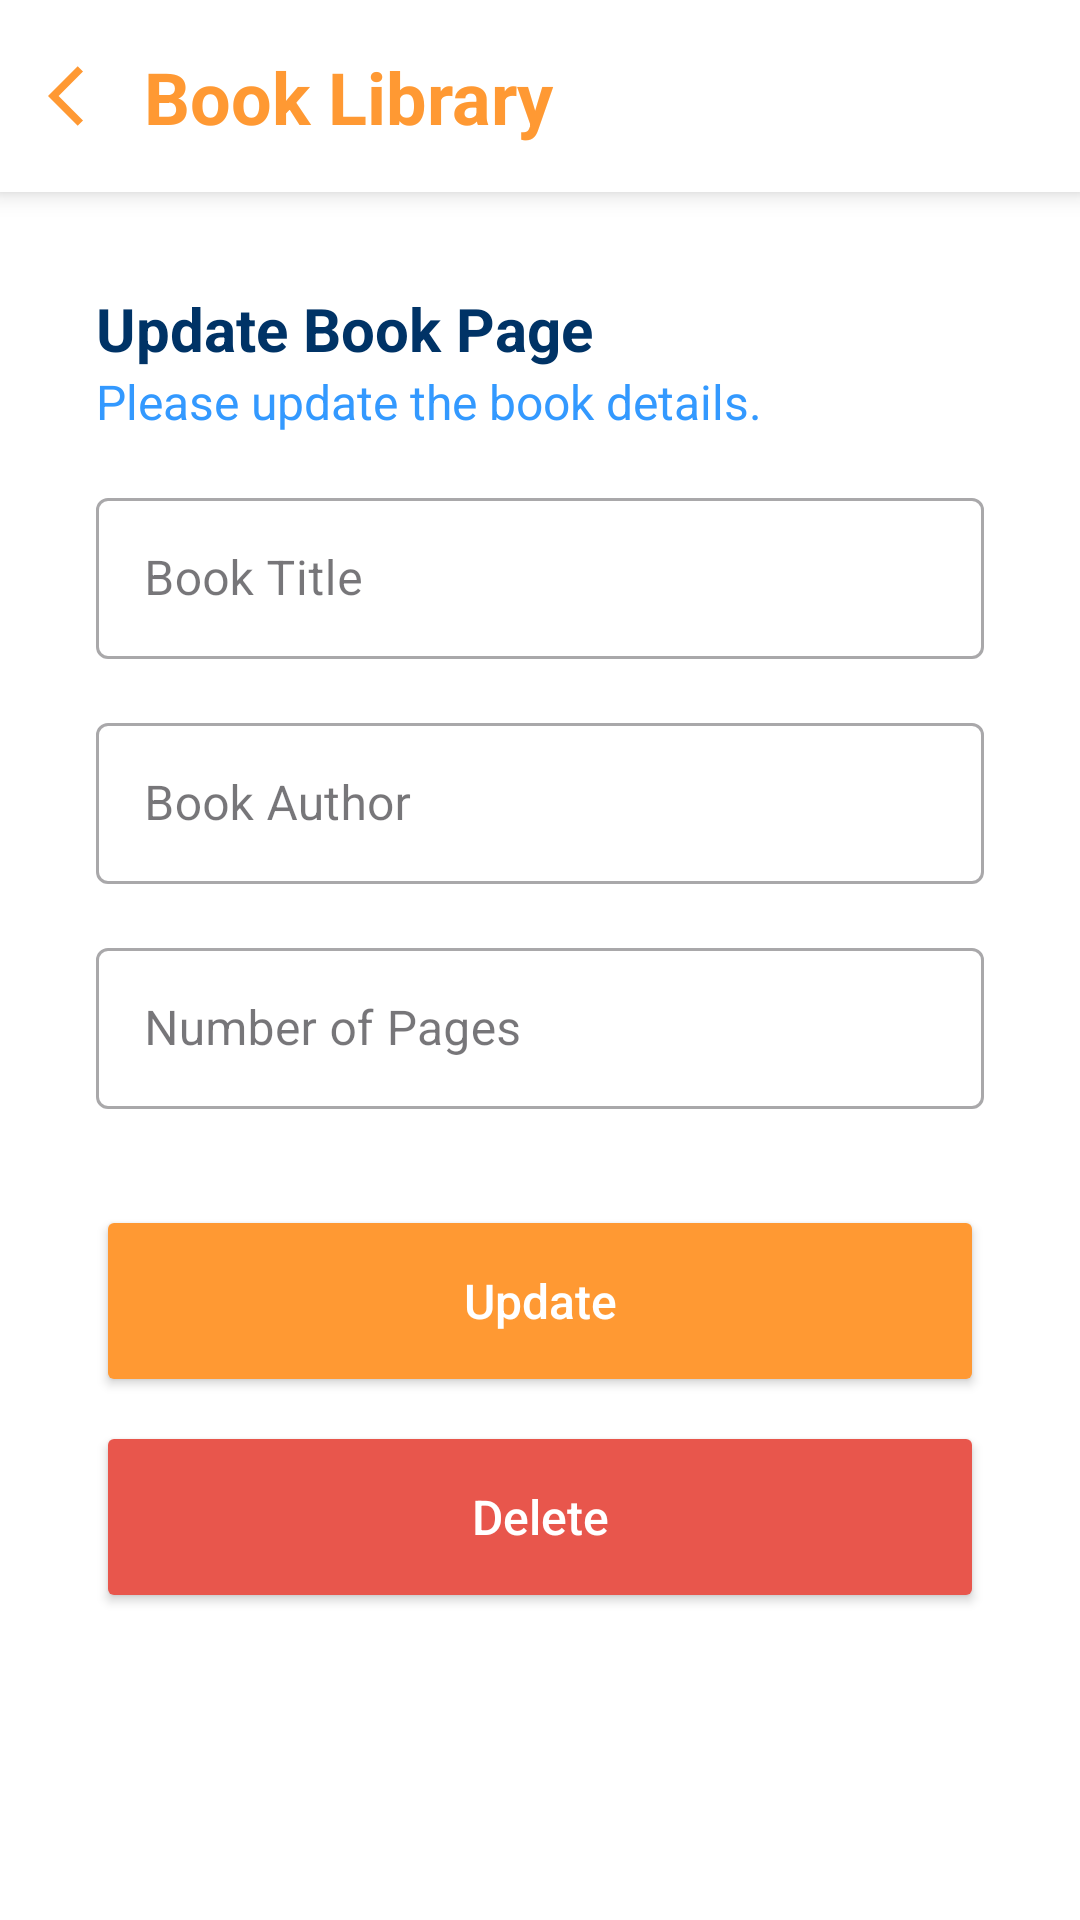

Locate icon controls on the screen. Image size 1080px x 1920px, boxes as detection(x1, y1, x2, y2).
back: detection(48, 66, 83, 126)
